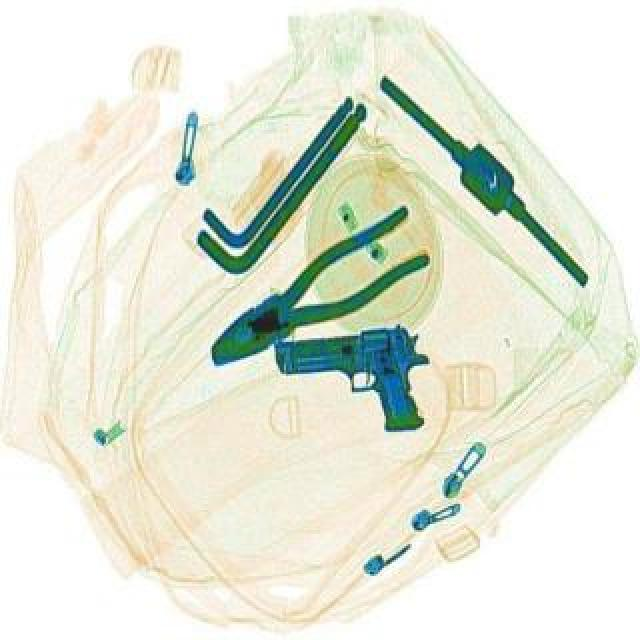gun: (272, 320, 434, 438)
wrench: (190, 200, 442, 386)
